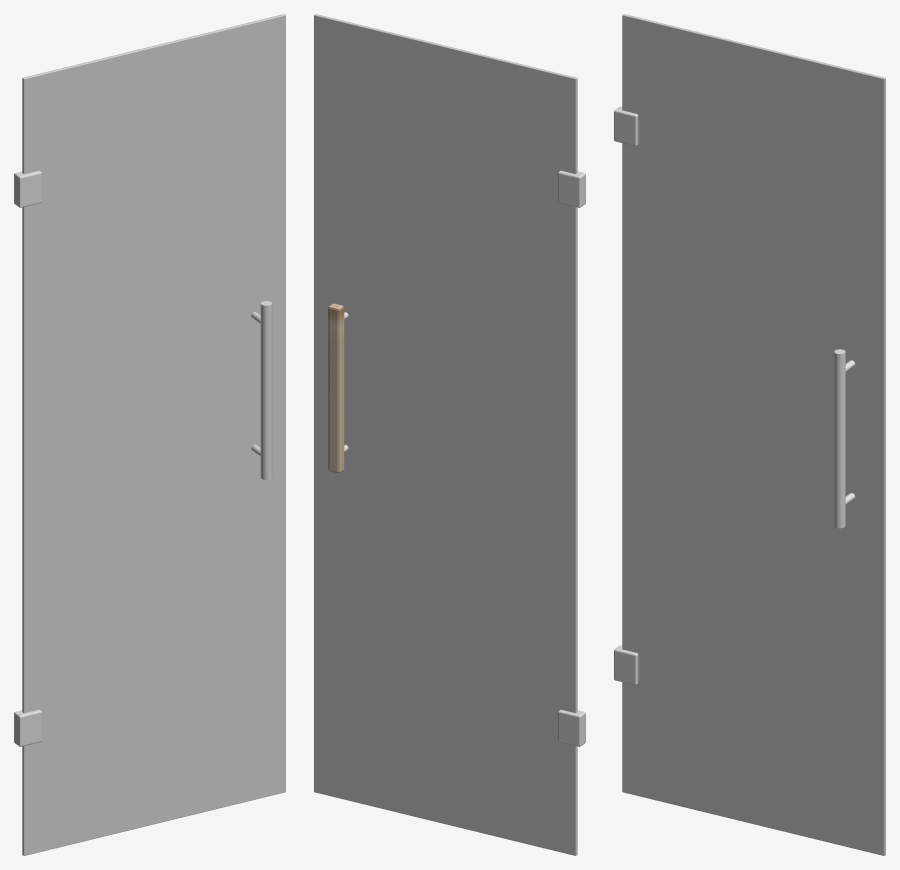
File: glass-door-1.0.0.glb
3 renders of one model, left to right at view 1: azimuth 30°, elevation 25°; view 2: azimuth 150°, elevation 25°; view 3: azimuth 330°, elevation 25°, orthographic.
Visible parts, largest first — view 1: door_leaf, handle_out, hinge_158, hinge_28; view 2: door_leaf, handle_in, hinge_158, hinge_28; view 3: door_leaf, handle_out, hinge_158, hinge_28.
Part boxes in pixels (box(x1,y1,x2,y2)): door_leaf: box(22, 14, 285, 855); handle_out: box(260, 301, 272, 479); hinge_158: box(14, 170, 41, 207); hinge_28: box(14, 709, 41, 746); door_leaf: box(314, 14, 577, 855); handle_in: box(328, 303, 344, 473); hinge_158: box(558, 170, 585, 207); hinge_28: box(558, 709, 585, 746); door_leaf: box(622, 14, 885, 855); handle_out: box(834, 349, 845, 528); hinge_158: box(614, 106, 638, 146); hinge_28: box(614, 645, 638, 685).
Size of the model in its own units: 0.678 by 1.87 by 0.1285.
3 materials, 1 textured.
